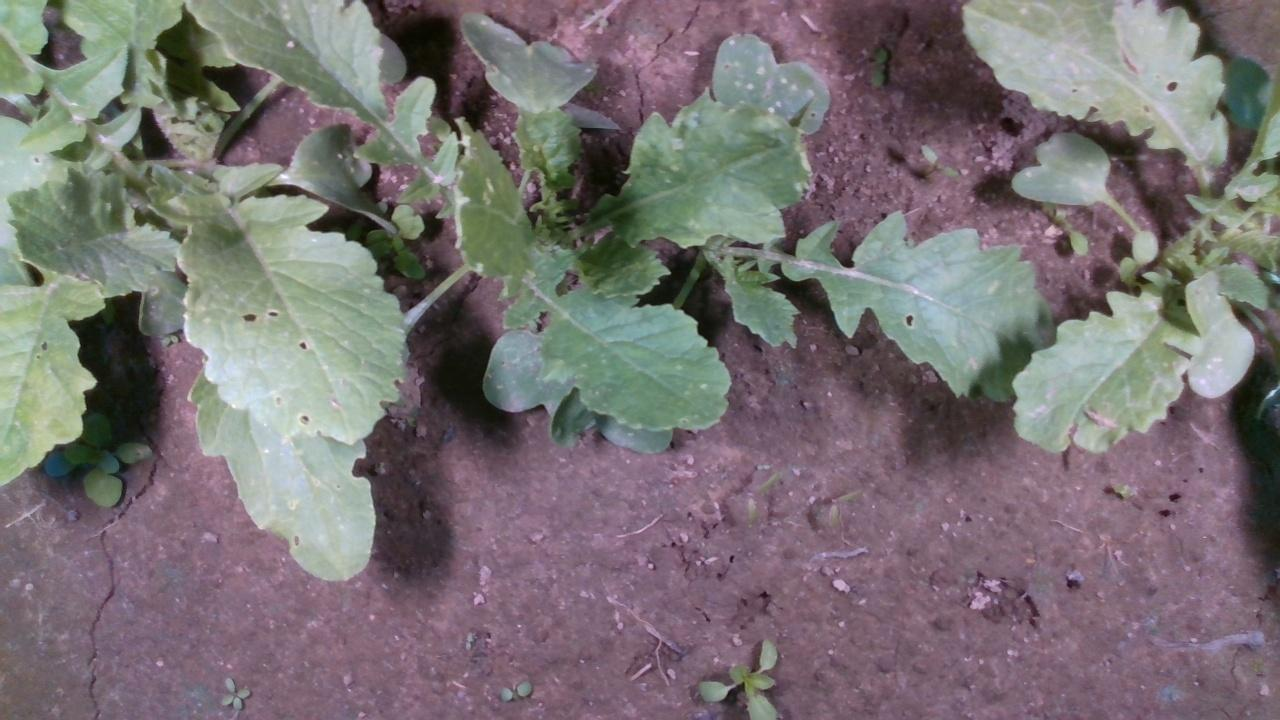weed: (918, 142, 964, 184), (218, 674, 252, 709), (493, 679, 533, 701)
